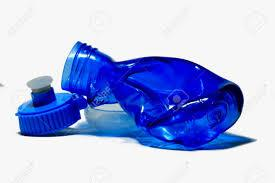plastic: (62, 43, 243, 149)
